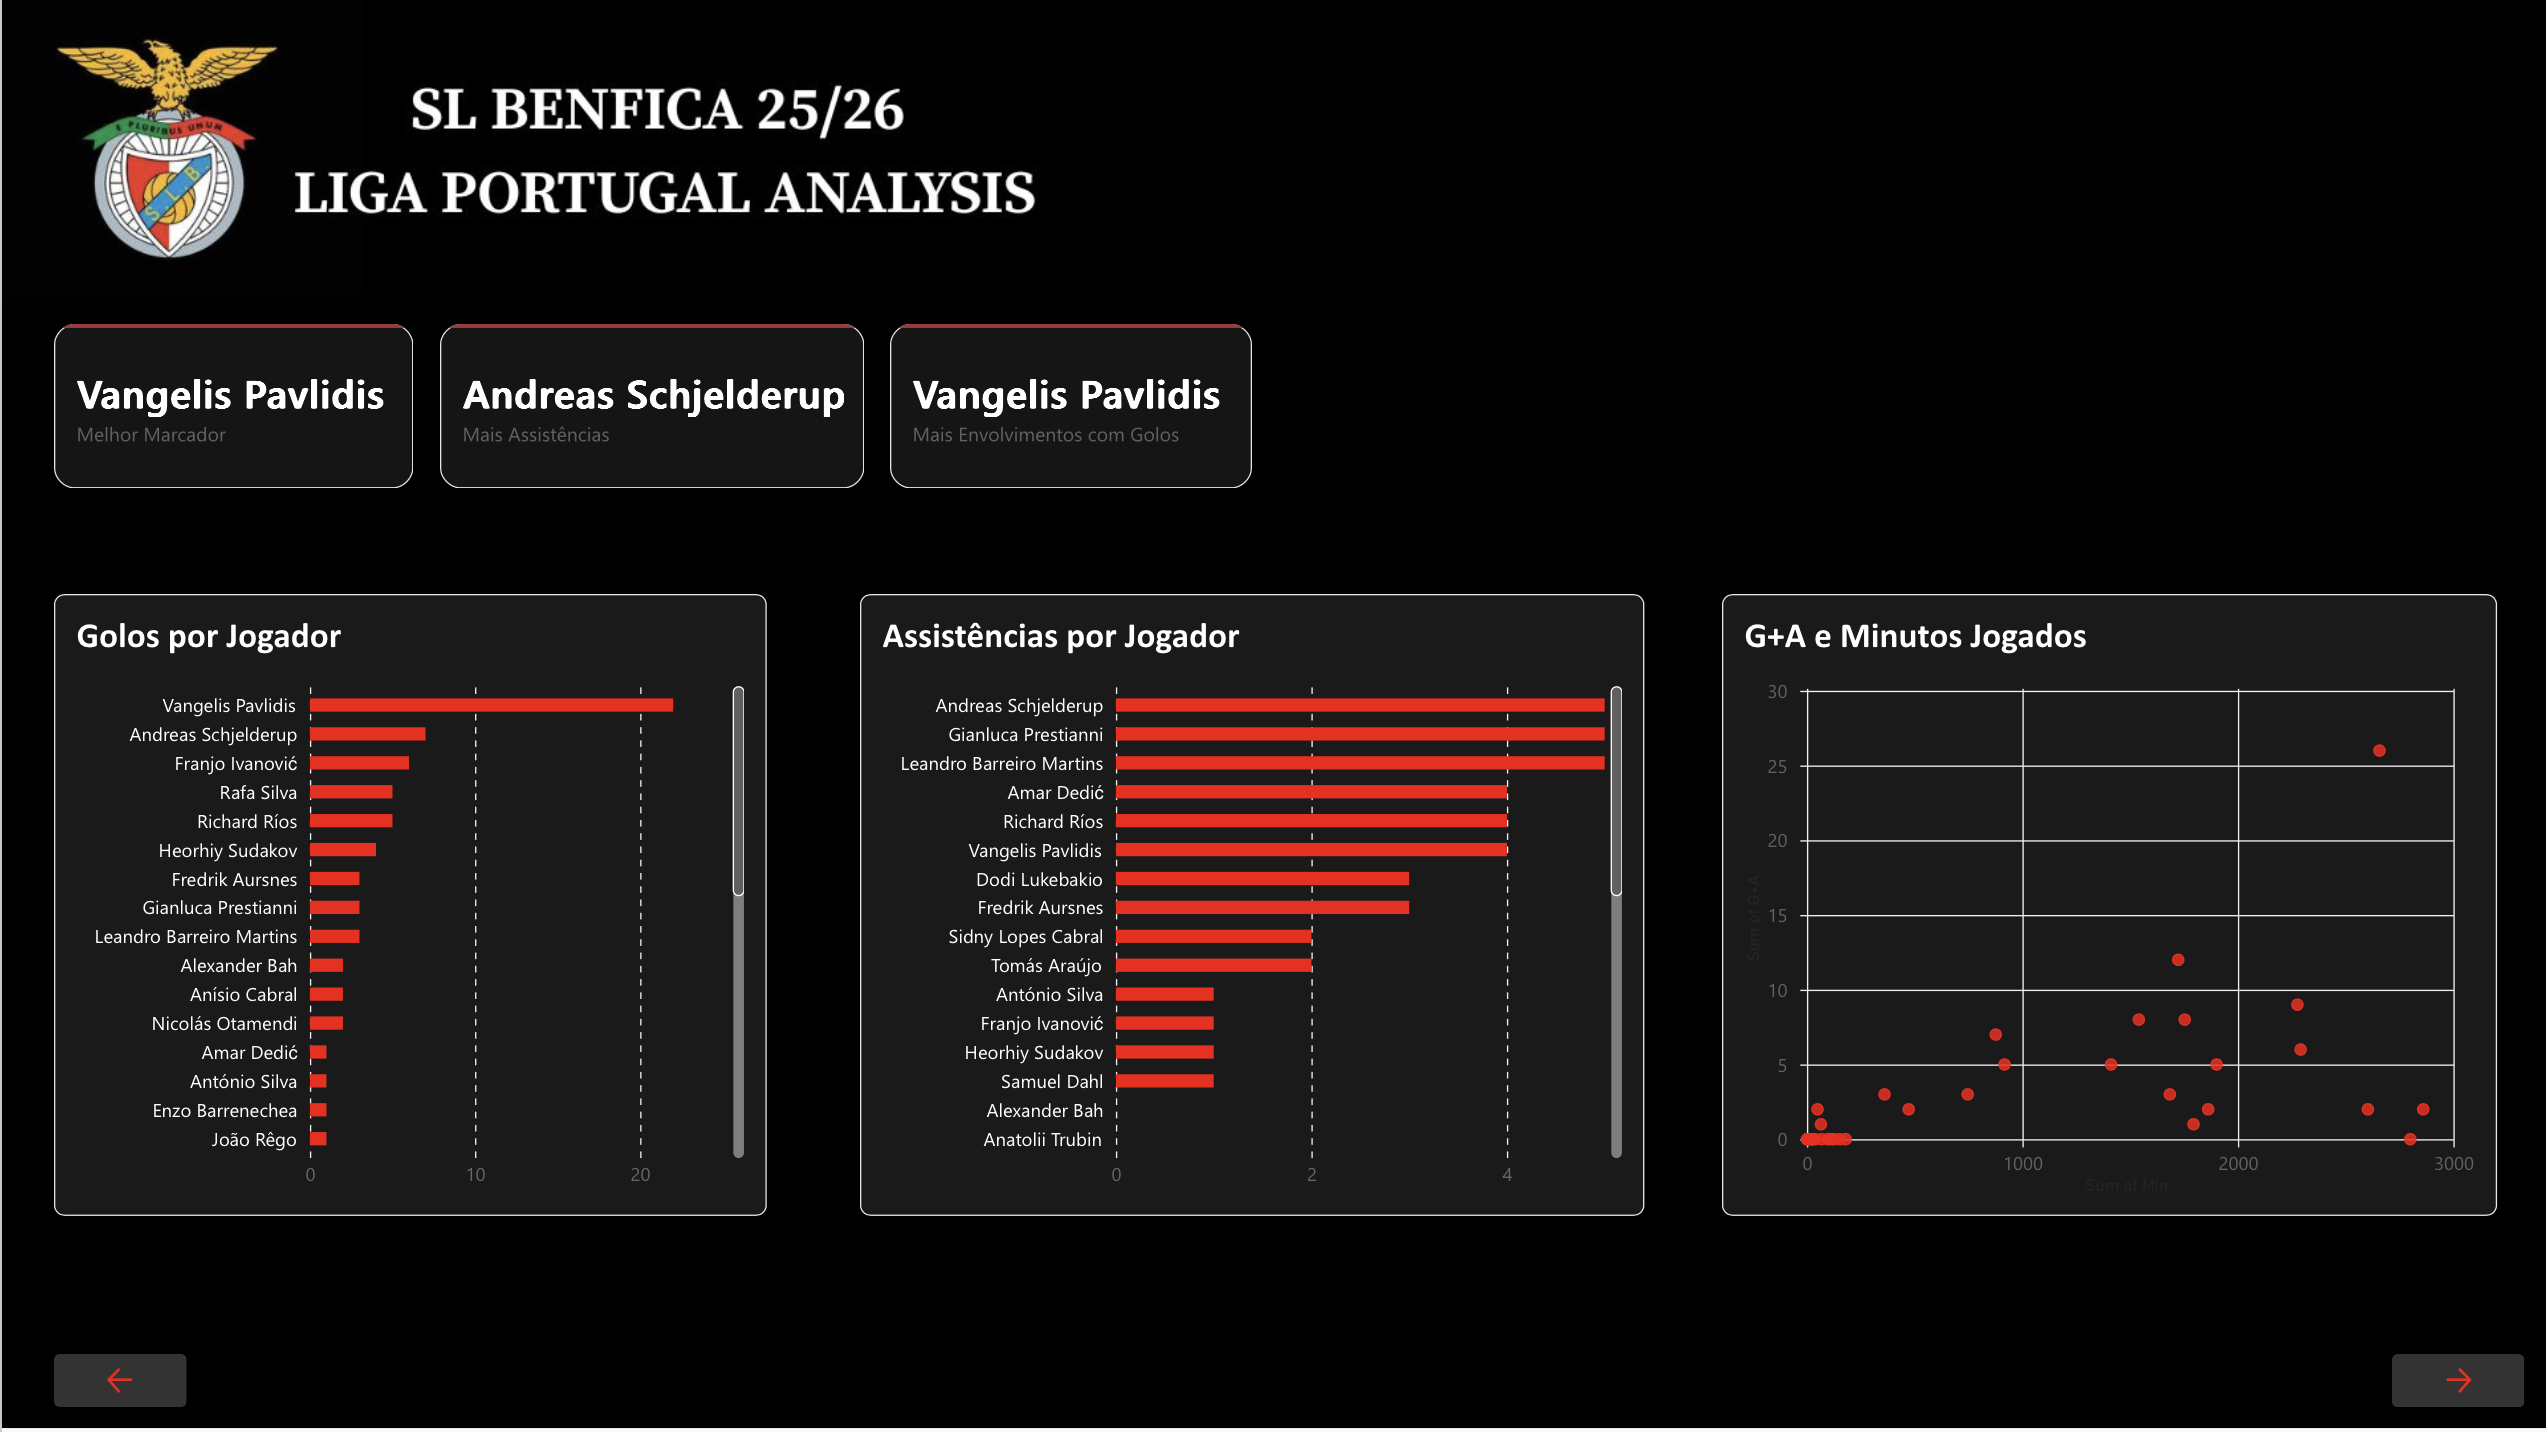

The page's visual inventory and layout, read from the dashboard file:
{"tool":"powerbi","page":{"name":"Page 2","canvas":[1920,1080],"ordinal":1},"visuals":[{"type":"clusteredBarChart","title":"Golos por Jogador","fields":{"Category":["jogadoresBefica_2526.Player"],"Y":["Sum(jogadoresBefica_2526.Gols)"]},"box":[38.5,448.1,537.3,469.1],"z":0},{"type":"cardVisual","fields":{"Data":["jogadoresBefica_2526.MelhorMarcador_Nome"]},"box":[38.5,245,271.3,124.3],"z":1000},{"type":"cardVisual","fields":{"Data":["jogadoresBefica_2526.MaisAssistências_Nome"]},"box":[330.8,245,320.3,124.3],"z":2000},{"type":"cardVisual","fields":{"Data":["jogadoresBefica_2526.MaisGeA_Nome"]},"box":[670.3,245,273,124.3],"z":3000},{"type":"clusteredBarChart","title":"Assistências por Jogador","fields":{"Category":["jogadoresBefica_2526.Player"],"Y":["Sum(jogadoresBefica_2526.Ast)"]},"box":[647.6,448.1,591.6,469.1],"z":4000},{"type":"scatterChart","title":"G+A e Minutos Jogados","fields":{"Category":["jogadoresBefica_2526.Player"],"X":["Sum(jogadoresBefica_2526.Min)"],"Y":["Sum(jogadoresBefica_2526.G+A)"]},"box":[1296.9,448.1,584.6,469.1],"z":5001},{"type":"actionButton","box":[1802.7,1020.4,99.8,40.3],"z":5002},{"type":"actionButton","box":[38.5,1020.4,100,40],"z":5003}]}

Visuals, with their boxes in screenshot pixels (x1, y1, x2, y2), scaled from the page's 1920x1080 canvas onto the 2546x1432 screenshot:
"Golos por Jogador" clusteredBarChart: 51 594 764 1216
cardVisual - jogadoresBefica_2526.MelhorMarcador_Nome: 51 325 411 490
cardVisual - jogadoresBefica_2526.MaisAssistências_Nome: 439 325 863 490
cardVisual - jogadoresBefica_2526.MaisGeA_Nome: 889 325 1251 490
"Assistências por Jogador" clusteredBarChart: 859 594 1643 1216
"G+A e Minutos Jogados" scatterChart: 1720 594 2495 1216
actionButton: 2390 1353 2523 1406
actionButton: 51 1353 184 1406
